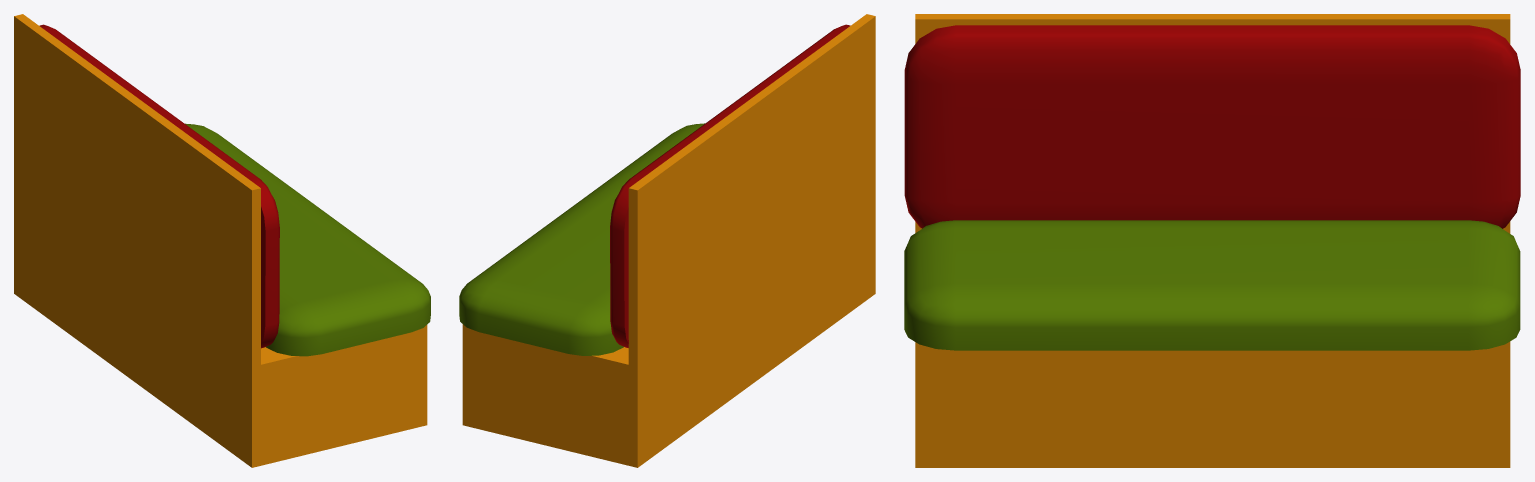
Rendered from boothBench.fbx.
3 renders of one model, left to right at view 1: azimuth 30°, elevation 25°; view 2: azimuth 150°, elevation 25°; view 3: azimuth 270°, elevation 25°, orthographic. The views are drawn at different scales.
Parts seen in each view (by area): view 1: underBoothSeat, benchCushion, benchCushionBack; view 2: underBoothSeat, benchCushion, benchCushionBack; view 3: benchCushionBack, benchCushion, underBoothSeat.
Boxes of the visible parts, x1=… form: underBoothSeat: x1=14, y1=14, x2=427, y2=467; benchCushion: x1=185, y1=123, x2=430, y2=356; benchCushionBack: x1=39, y1=24, x2=279, y2=348; underBoothSeat: x1=462, y1=14, x2=875, y2=467; benchCushion: x1=459, y1=123, x2=704, y2=355; benchCushionBack: x1=610, y1=24, x2=850, y2=347; benchCushionBack: x1=904, y1=25, x2=1520, y2=228; benchCushion: x1=904, y1=220, x2=1520, y2=350; underBoothSeat: x1=915, y1=14, x2=1510, y2=467.
Size of the model in its own units: 2.74 by 3.83 by 6.16.
